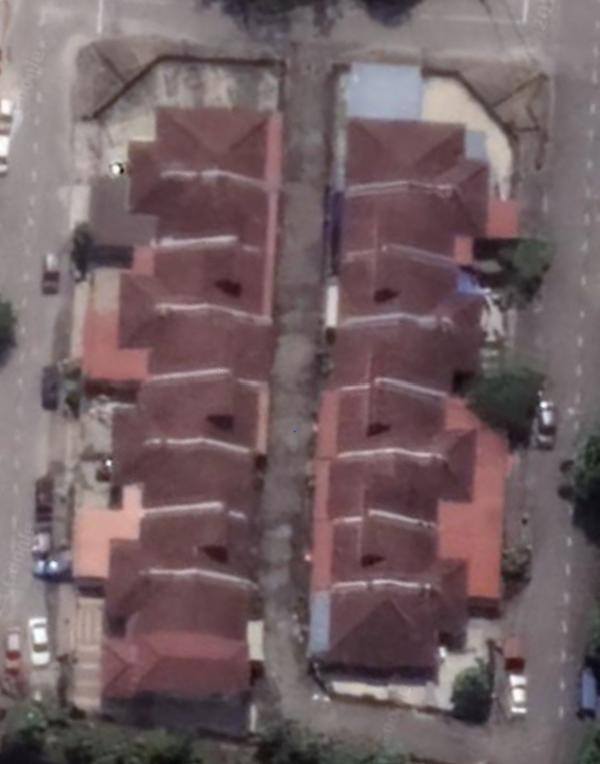building: (306, 587, 474, 674), (108, 373, 267, 462), (106, 436, 266, 522), (116, 304, 271, 388), (112, 243, 274, 321), (329, 316, 484, 394), (104, 506, 260, 583), (122, 107, 282, 182), (336, 182, 491, 259), (334, 250, 488, 327), (318, 454, 477, 528), (331, 379, 473, 460), (121, 179, 279, 250), (313, 520, 471, 590), (342, 118, 493, 189), (98, 639, 251, 704), (102, 574, 256, 636)
